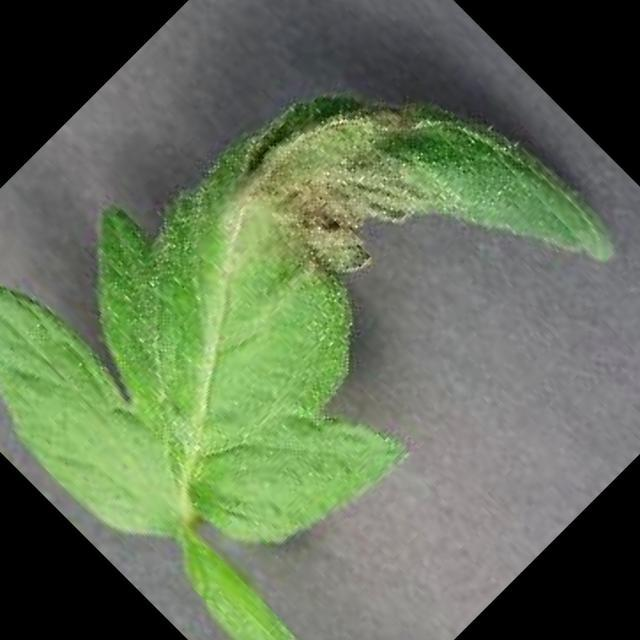Tomato healthy leaf: (145, 522, 329, 640)
Tomato late blight leaf: (0, 0, 637, 640)
